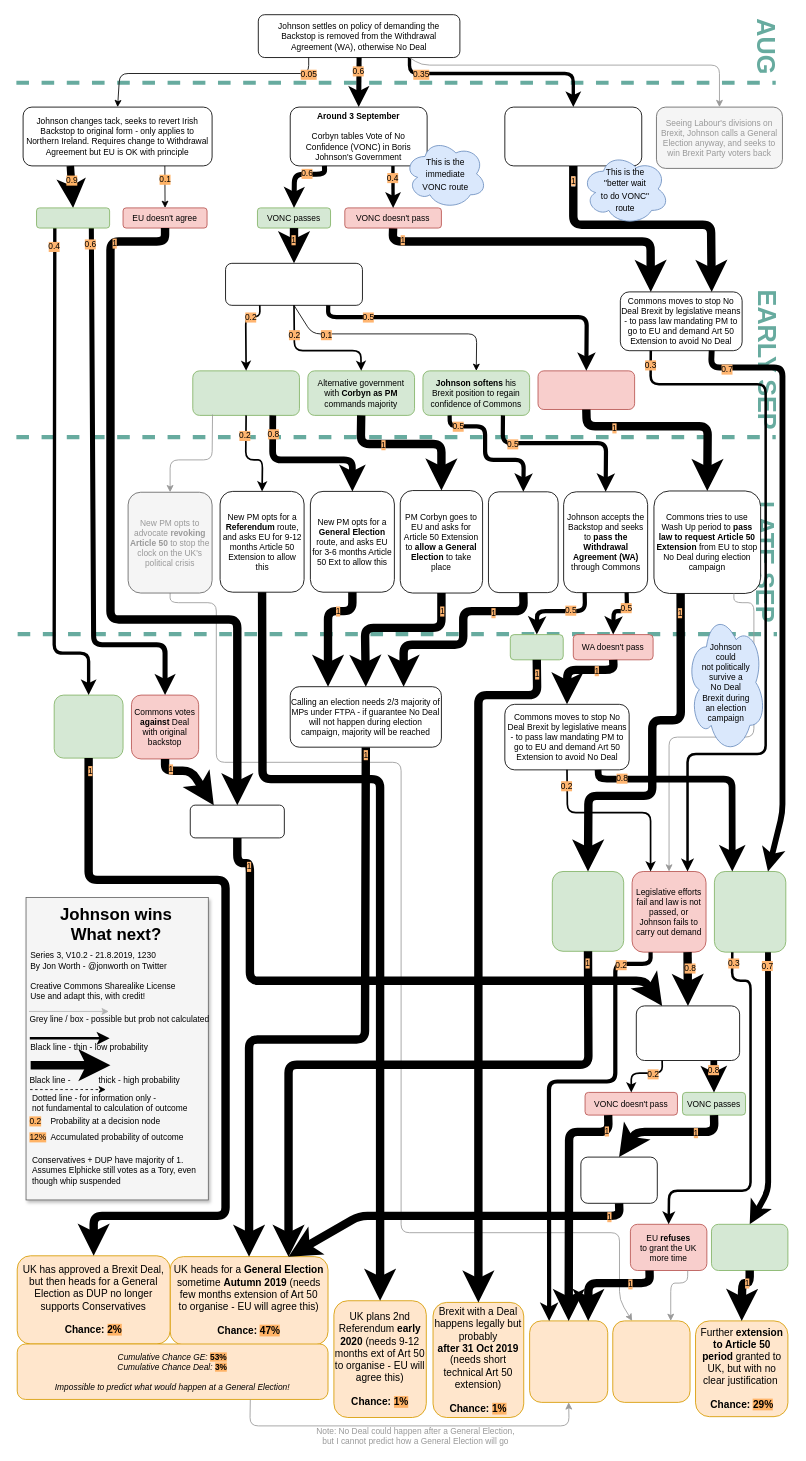
Image size: 806x1461. Some labels were removed from this diagram. Here are the shapes that lost their labels. From the top down, the centre of each, then its label:
At [573,136]: "First 2 weeks of September Corbyn does not table Vote of No Confidence (VONC)".
At [73,217]: "EU agrees".
At [293,283]: "14 day period foreseen under Fixed Term Parliaments Act".
At [245,392]: "Alternative government with a centrist as PM commands majority".
At [586,390]: "No-one can command a majority".
At [523,542]: "Seeing there is no support for his way forward, Johnson calls an election".
At [536,647]: "WA passes".
At [88,726]: "Commons votes in favour of Deal with original backstop".
At [236,821]: "DUP furious at Johnson's approach".
At [587,911]: "Wash Up Legislative efforts succeed and law is passed, election can happen".
At [750,911]: "Legislative efforts succeed and law is passed".
At [687,1032]: "Early to mid October Vote of No Confidence (VONC)".
At [618,1179]: "Emergency legislation to prevent No Deal".
At [749,1246]: "EU agrees to grant the UK more time".
At [568,1361]: "No Deal Brexit looms on 31 October 2019, Chance: 20%".
At [651,1361]: "Commons votes to Revoke Article 50 Chance: -%".
